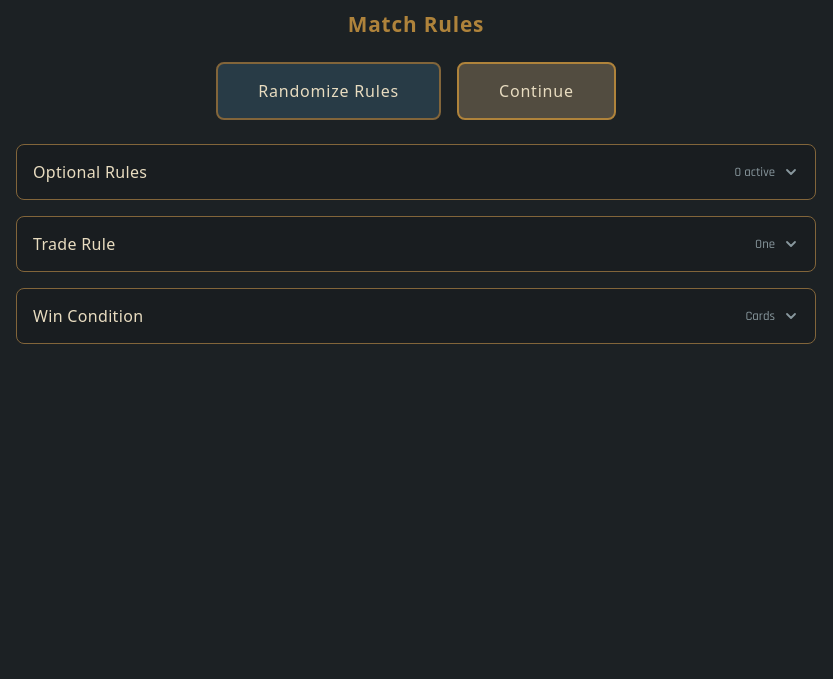
Scenario: RuleSelectScreen accordion behaviour › clicking an open section's header again collapses it
This screenshot has width=833, height=679.
Click the button "Optional Rules 0 active": x=90, y=172 [17,145,815,199]
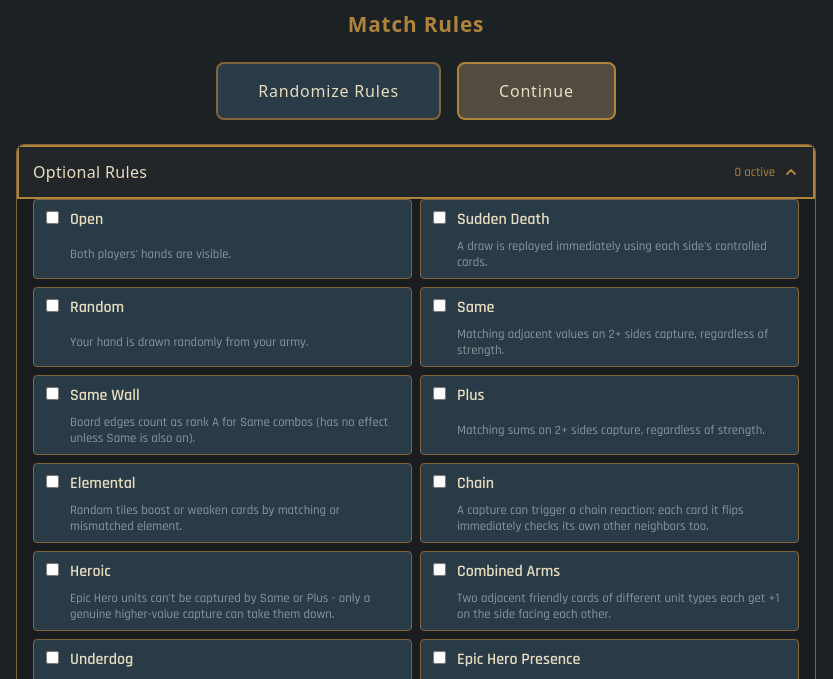
Click the button "Optional Rules 0 active": x=90, y=172 [17,145,815,199]
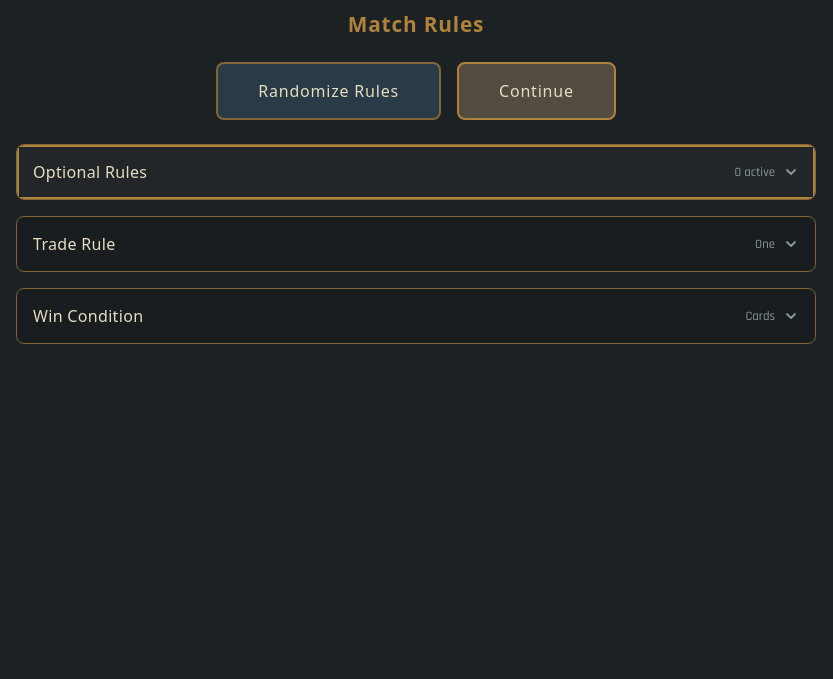
Expected: the button "Optional Rules 0 active" is collapsed, [17,145,815,199]
